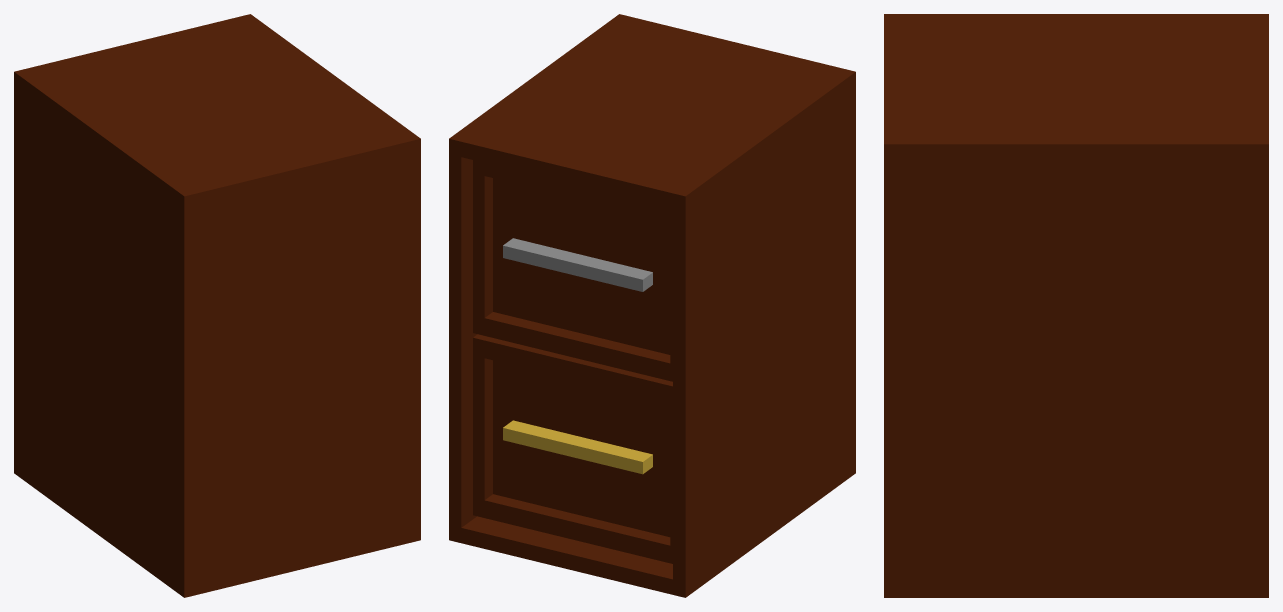
File: Blockout_SideTable_02.fbx
3 views of the same model, side by side, from view 1: azimuth 30°, elevation 25°; view 2: azimuth 150°, elevation 25°; view 3: azimuth 270°, elevation 25° (orthographic). The views are drawn at different scales.
Parts seen in each view (by area): view 1: Dresser_unit_02; view 2: Dresser_unit_02, Dresser_Drawer_03, Dresser_Drawer_02; view 3: Dresser_unit_02.
Boxes of the visible parts, x1=… form: Dresser_unit_02: x1=14, y1=14, x2=420, y2=597; Dresser_unit_02: x1=449, y1=14, x2=855, y2=597; Dresser_Drawer_03: x1=473, y1=334, x2=672, y2=563; Dresser_Drawer_02: x1=473, y1=160, x2=672, y2=381; Dresser_unit_02: x1=884, y1=14, x2=1268, y2=597.
Bounding box in the file's own units: 40.08 × 65 × 50.
